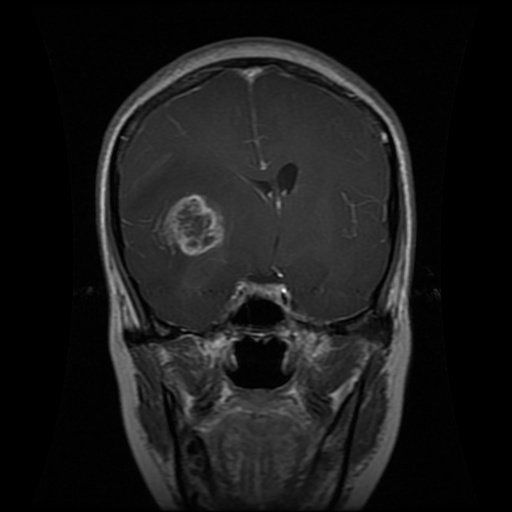glioma: (151, 190, 232, 284)
